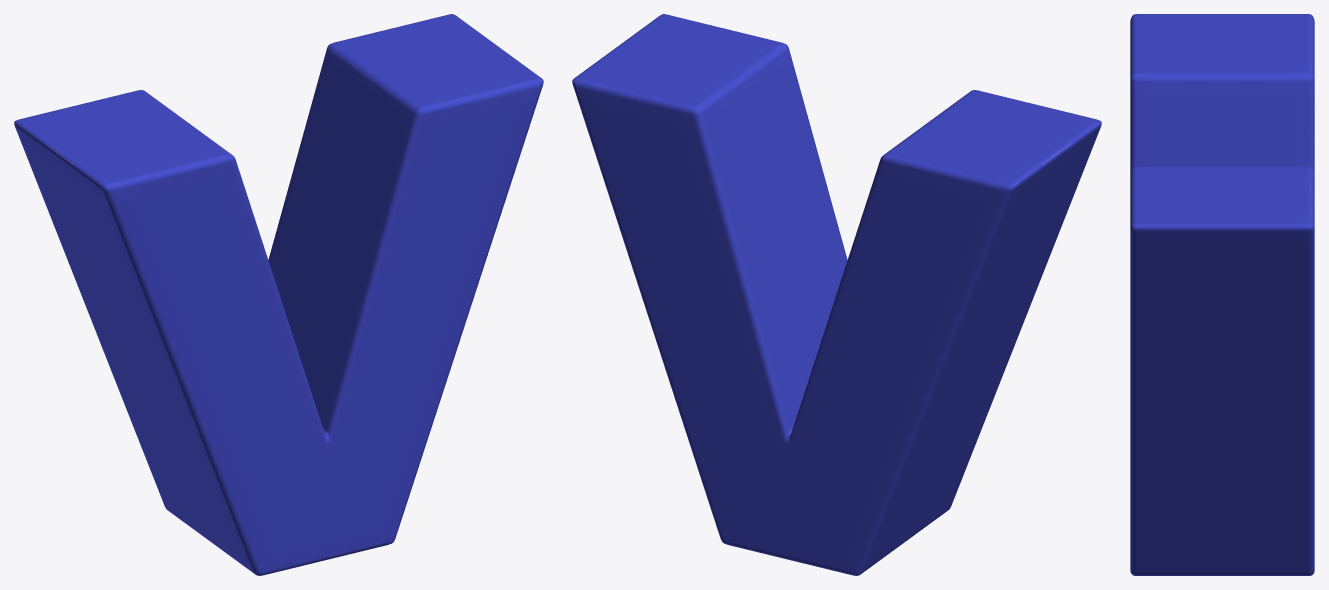
File: modelV.glb
The picture shows the model from 3 angles, left to right: view 1: azimuth 30°, elevation 25°; view 2: azimuth 150°, elevation 25°; view 3: azimuth 270°, elevation 25°; orthographic projection.
Parts seen in each view (by area): view 1: node_id152_1; view 2: node_id152_1; view 3: node_id152_1.
Part boxes in pixels (x1,y1,x2,y2): node_id152_1: (14, 14, 543, 575); node_id152_1: (572, 14, 1101, 575); node_id152_1: (1130, 14, 1314, 575).
Size of the model in its own units: 0.512 by 0.4761 by 0.1873.
1 material, 1 textured.
